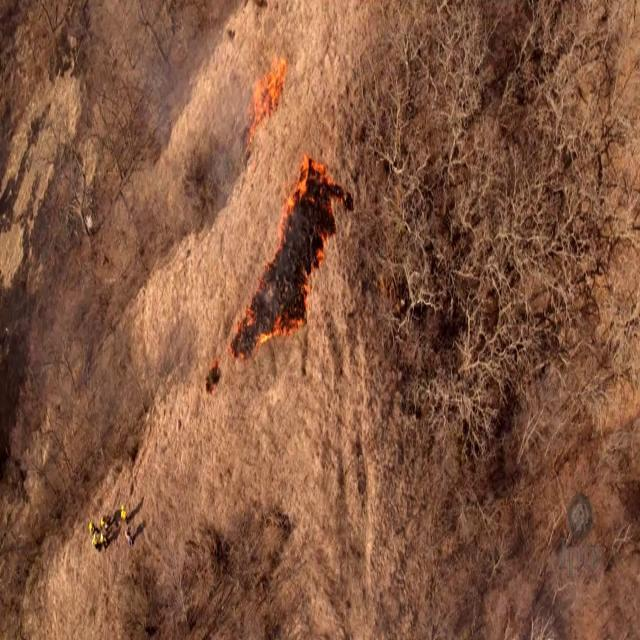Fire: (228, 152, 346, 362), (246, 56, 287, 146)
